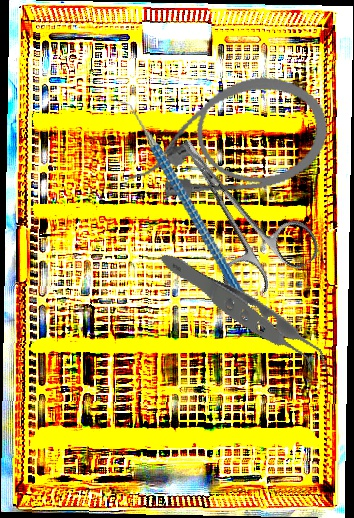Cannula: (112, 64, 339, 216)
Chopper: (109, 78, 246, 317)
Iris Scissors: (145, 111, 326, 309)
Tissue Forceps: (158, 212, 335, 424)
